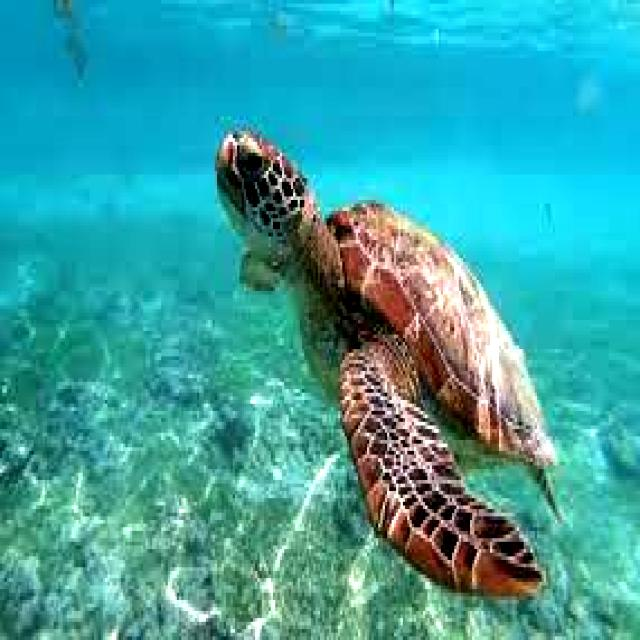Sea turtle: (198, 100, 586, 626)
